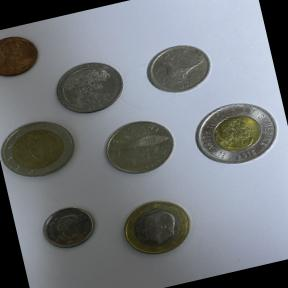1 Euro-B: (110, 188, 210, 270)
2 Euro-B: (0, 112, 83, 190)
Canada-10cent-B: (33, 197, 106, 260)
Canada-2Dollar-B: (181, 86, 288, 181)
Croatia-2Kune-B: (88, 106, 188, 188)
US-1cent-B: (0, 23, 55, 92)
US-25cent-B: (47, 51, 136, 124)
